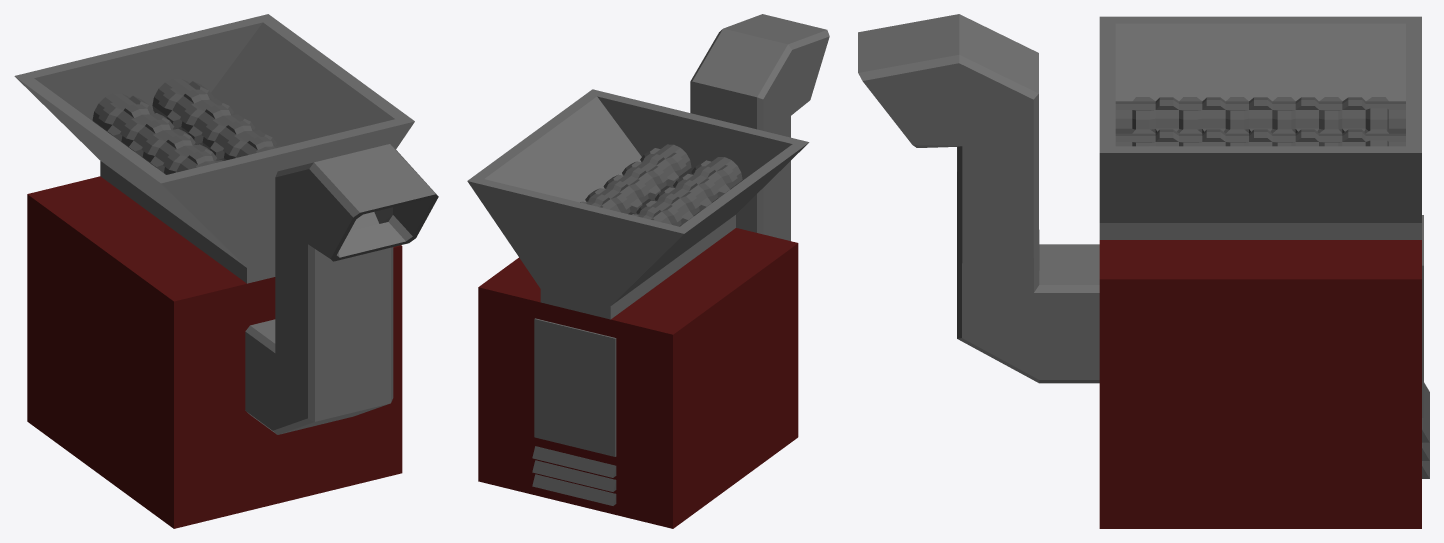
Rendered from grinder.fbx.
The picture shows the model from 3 angles, left to right: view 1: azimuth 30°, elevation 25°; view 2: azimuth 150°, elevation 25°; view 3: azimuth 270°, elevation 25°; orthographic projection. The views are drawn at different scales.
Visible parts, largest first — view 1: Grinder; view 2: Grinder; view 3: Grinder.
Boxes of the visible parts, x1,y1,x2,y2 form: Grinder: (14, 14, 438, 528); Grinder: (467, 14, 829, 528); Grinder: (858, 14, 1429, 528).
Bounding box in the file's own units: 54.29 × 96.29 × 80.56.
